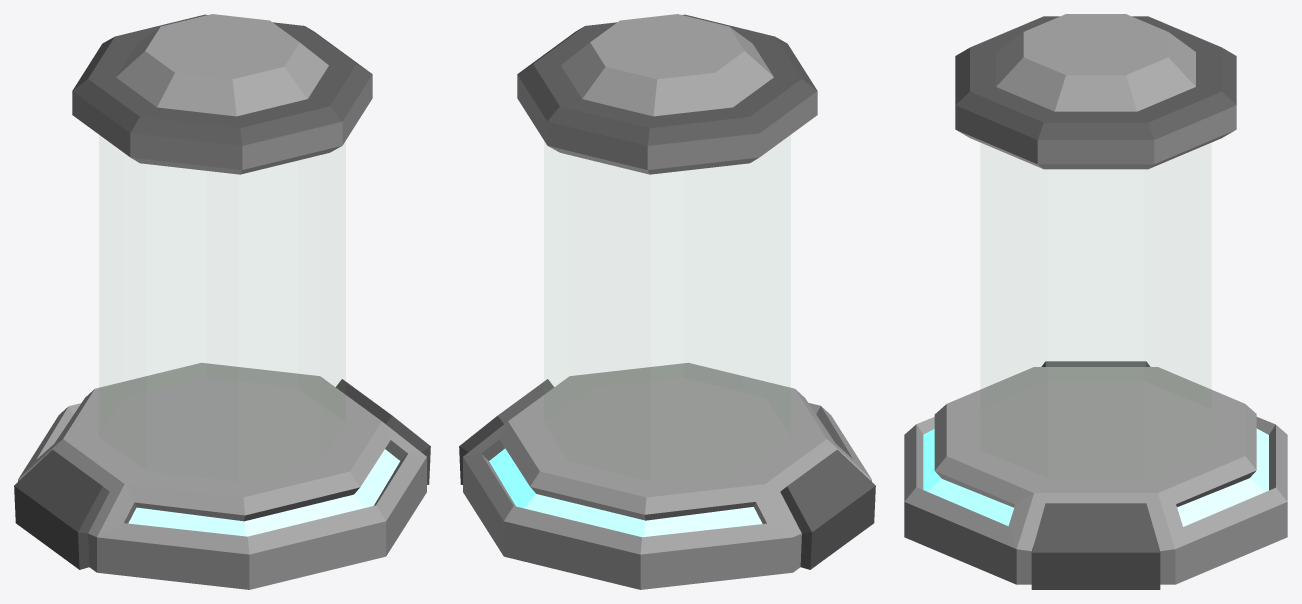
File: SM_TableScienceContainer.fbx
The picture shows the model from 3 angles, left to right: view 1: azimuth 30°, elevation 25°; view 2: azimuth 150°, elevation 25°; view 3: azimuth 270°, elevation 25°; orthographic projection.
Parts seen in each view (by area): view 1: SM_ScienceJar; view 2: SM_ScienceJar; view 3: SM_ScienceJar.
Part boxes in pixels (<box>): SM_ScienceJar: <box>14,14,430,589</box>; SM_ScienceJar: <box>459,14,875,589</box>; SM_ScienceJar: <box>904,14,1287,589</box>.
Size of the model in its own units: 25.43 by 31.49 by 23.79.
